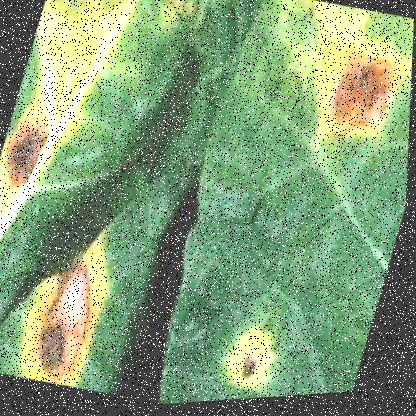AlternariaBrassicicola: (2, 214, 129, 392), (289, 33, 413, 177), (201, 302, 302, 404), (0, 93, 66, 214)
